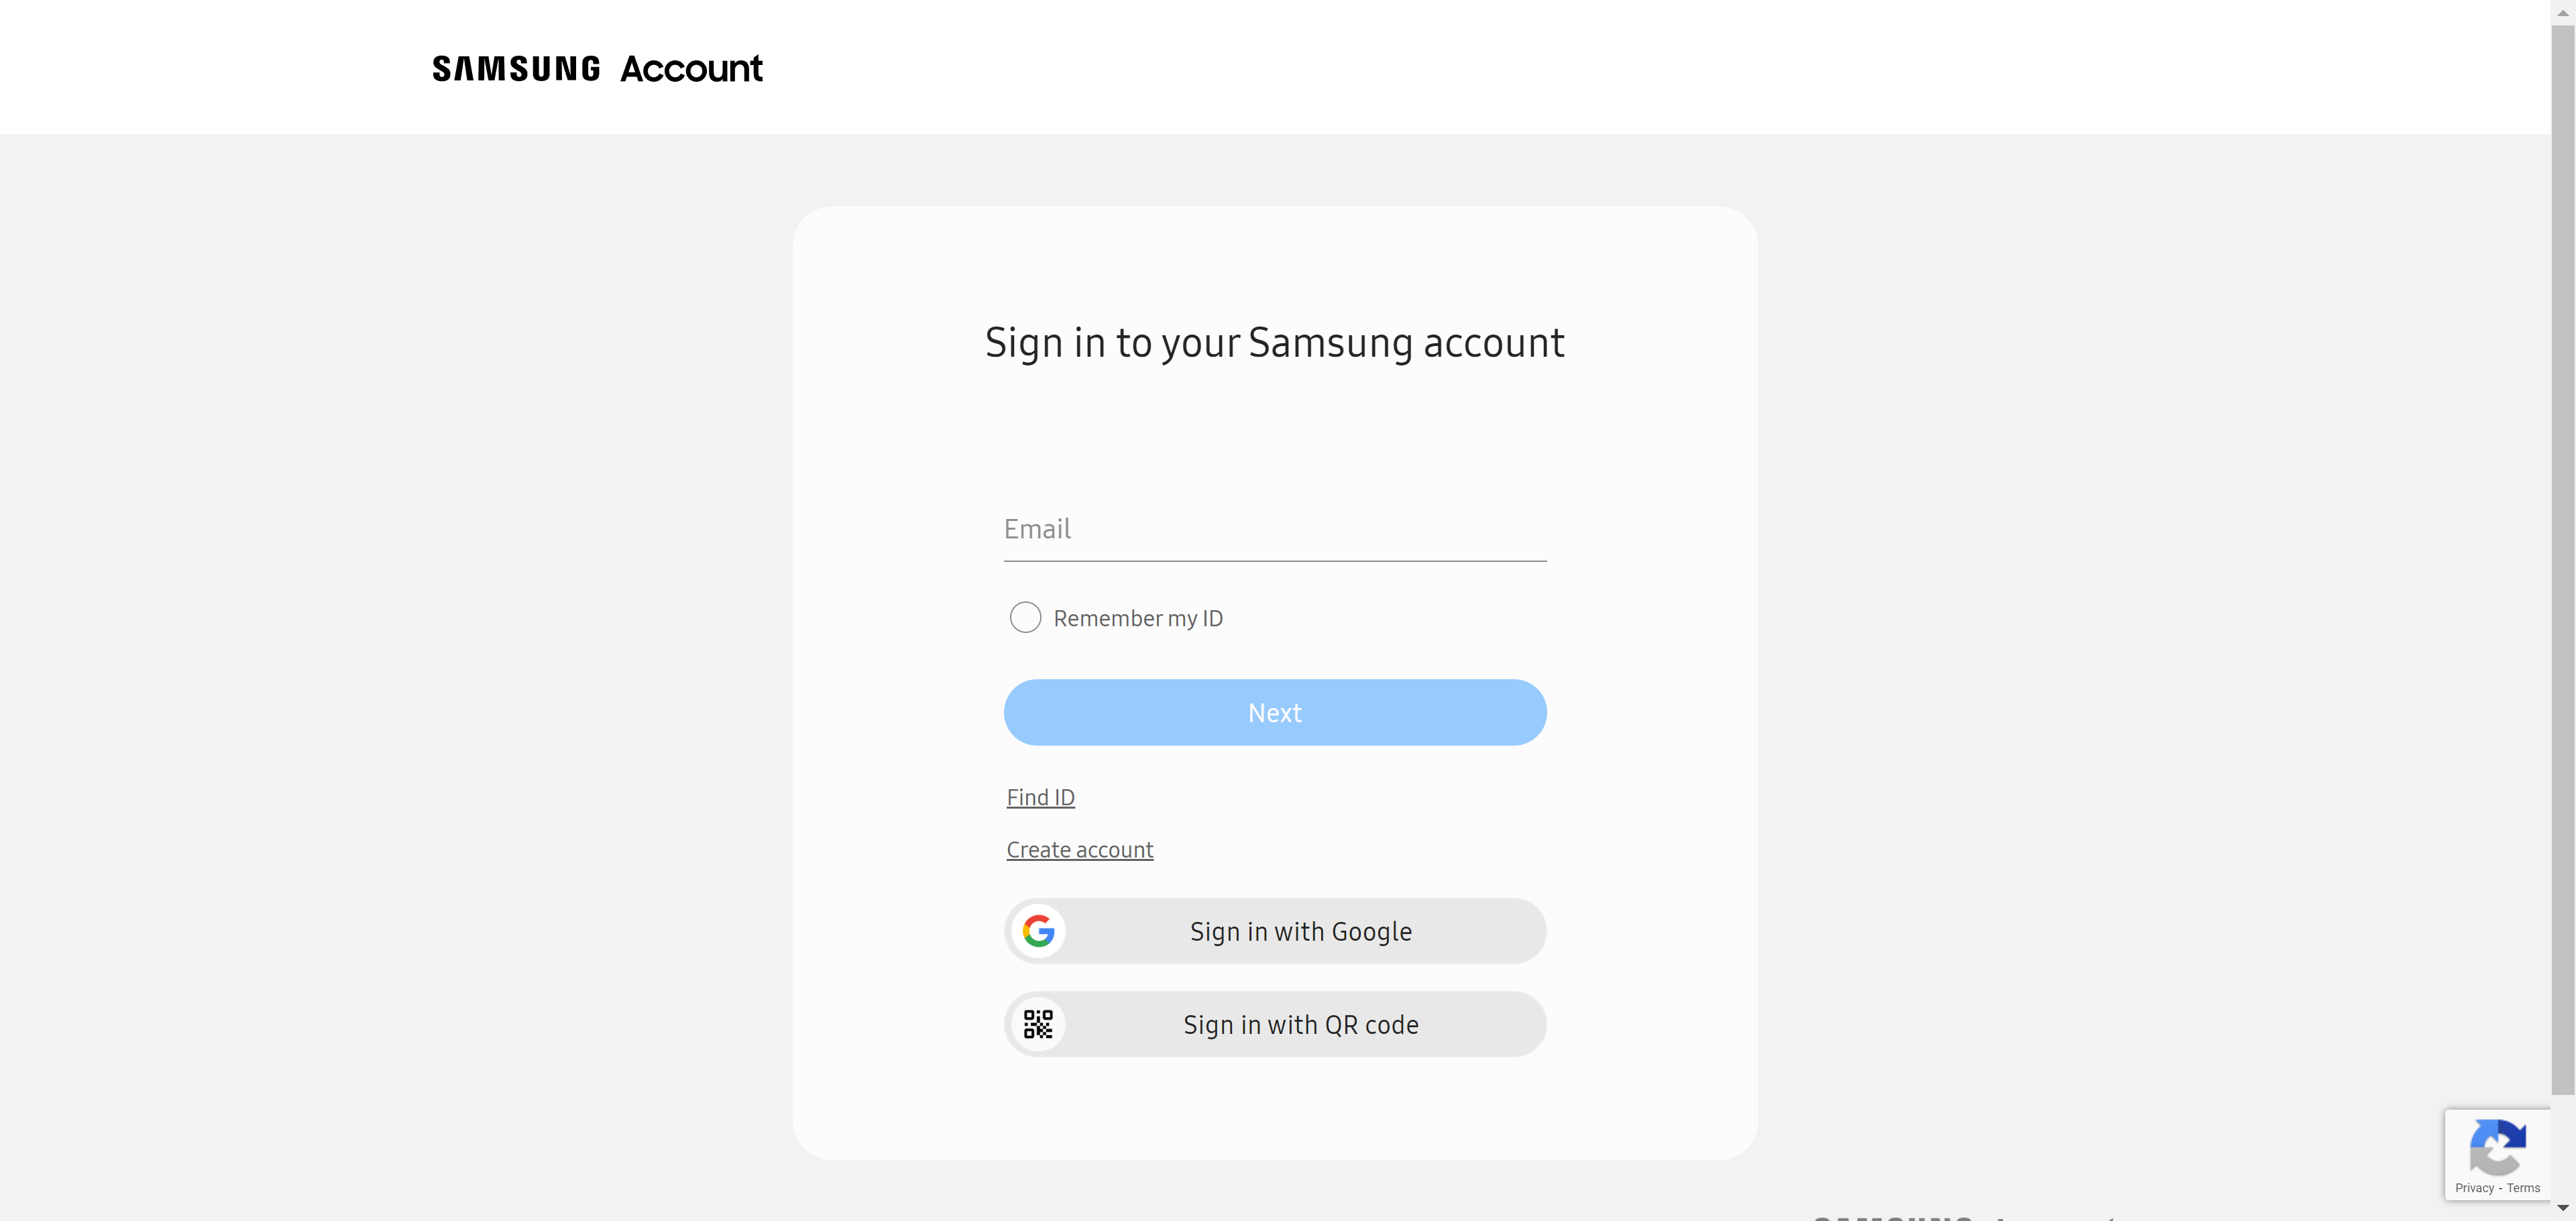login_button: (1004, 679, 1546, 746)
login_form: (991, 491, 1566, 769)
